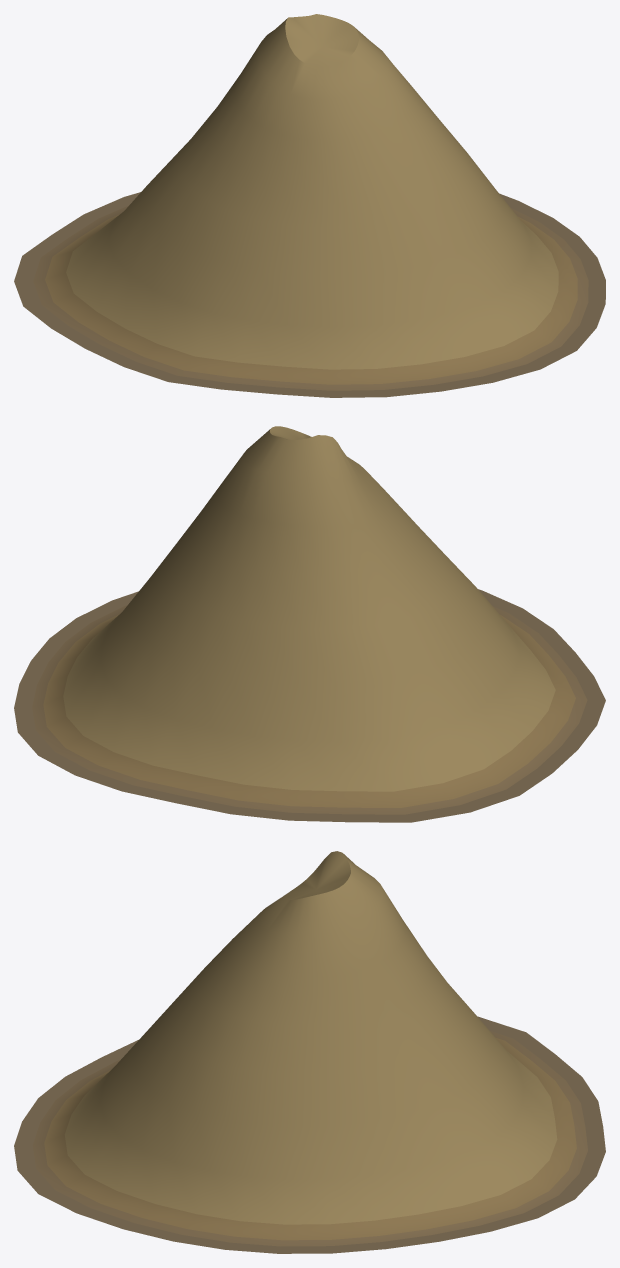
The model's file is Sand_Pile.glb.
3 renders of one model, top to bottom at view 1: azimuth 30°, elevation 25°; view 2: azimuth 150°, elevation 25°; view 3: azimuth 270°, elevation 25°, orthographic. The views are drawn at different scales.
Parts seen in each view (by area): view 1: Sand Pile (scaled and to origin); view 2: Sand Pile (scaled and to origin); view 3: Sand Pile (scaled and to origin).
Part boxes in pixels (x1,y1,x2,y2): Sand Pile (scaled and to origin): [14, 14, 605, 397]; Sand Pile (scaled and to origin): [14, 426, 605, 822]; Sand Pile (scaled and to origin): [14, 851, 605, 1253].
Bounding box in the file's own units: 0.8117 × 0.4119 × 0.819.
